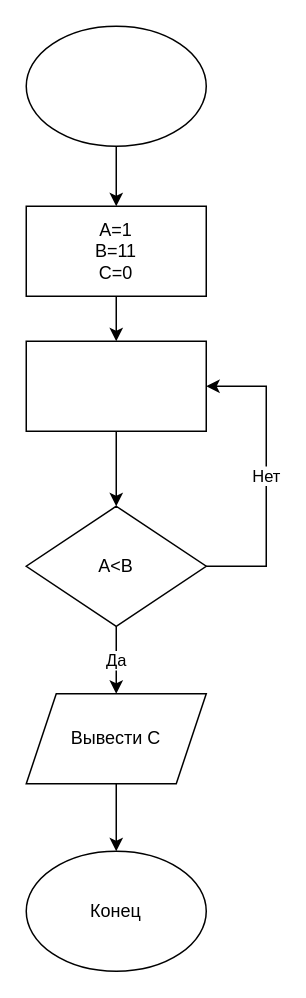
Some shapes in this 306 by 998 pixel diagram are drawn without their labels. The centre of each missing label's shape, as x and y in pixels:
"C=A+1 A=A+1" goes at point (115, 385).
"Начало" goes at point (115, 85).
